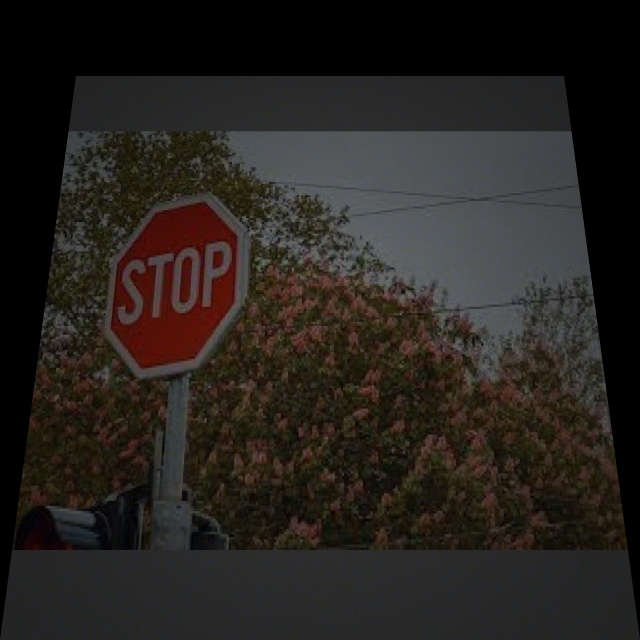Stop: (103, 197, 249, 375)
